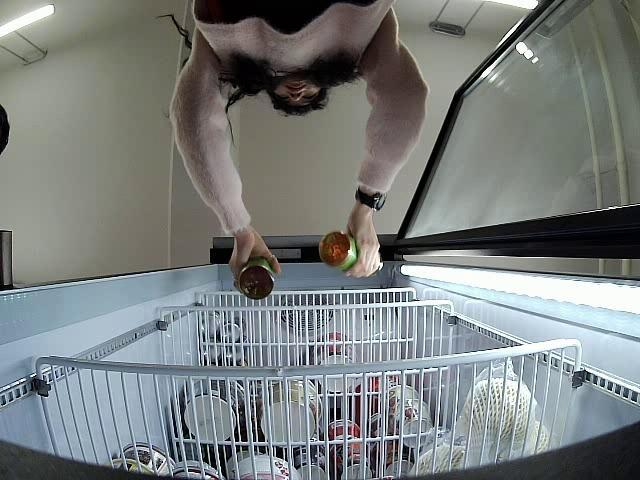19_17cha: (233, 255, 276, 299), (317, 230, 358, 272)
